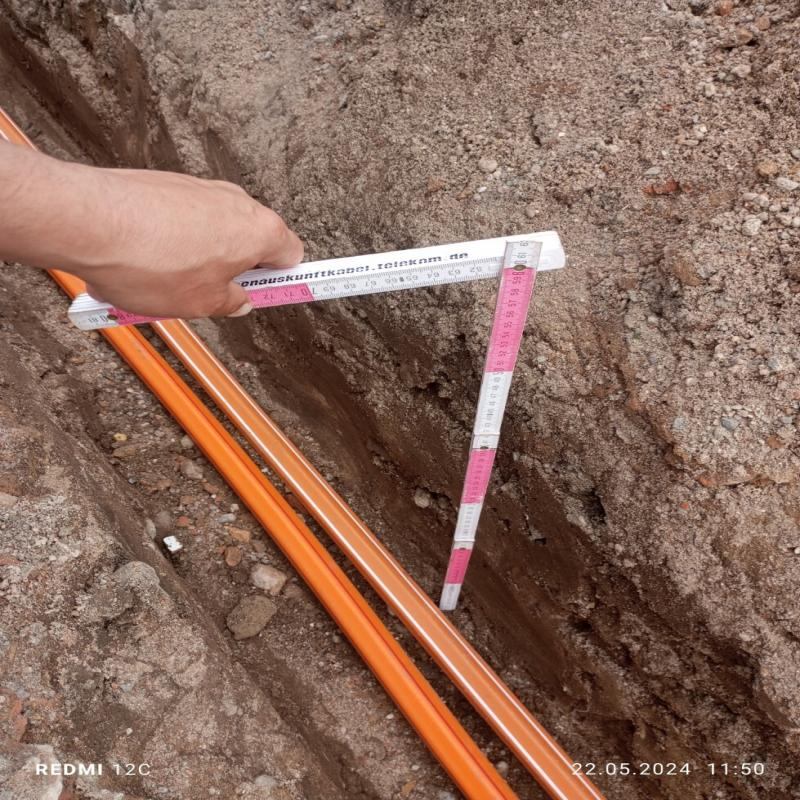Orang-Speednetrohrchen: (106, 314, 611, 800)
